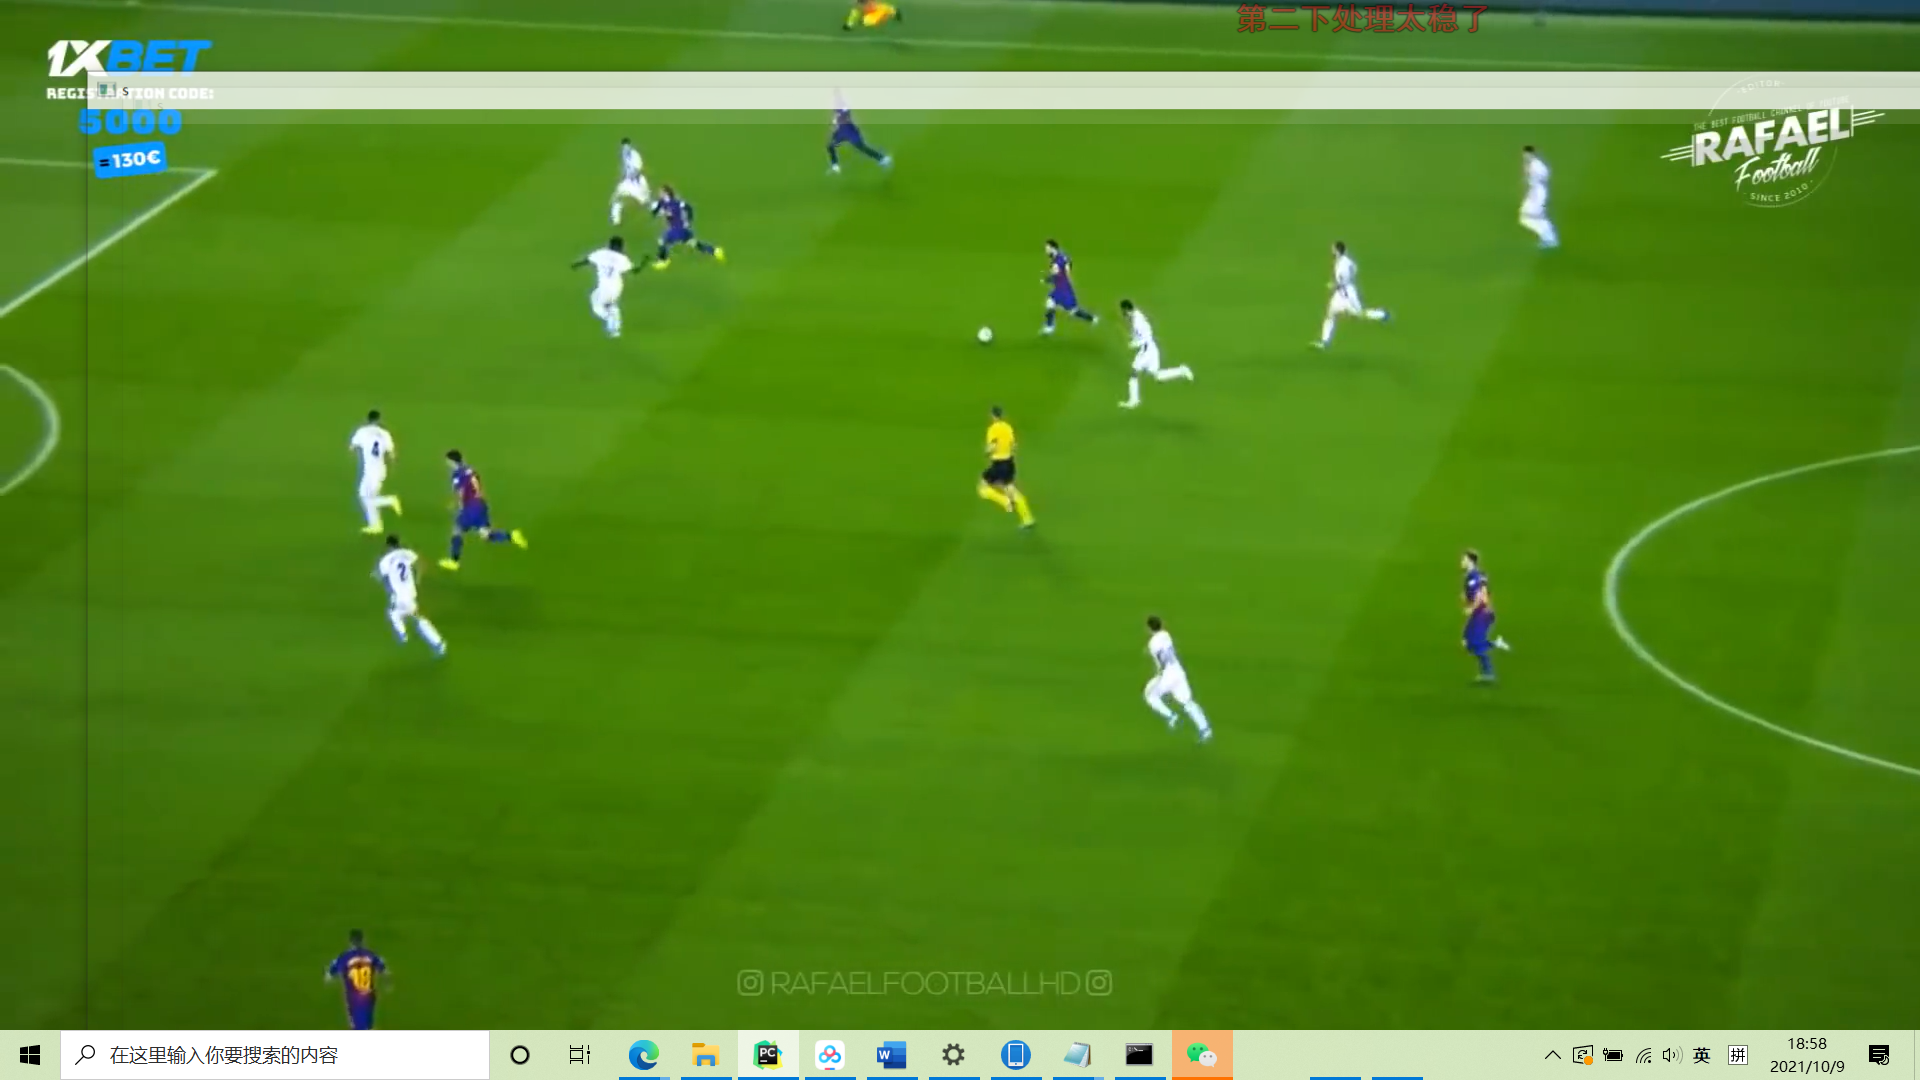ft: (976, 326, 994, 344)
